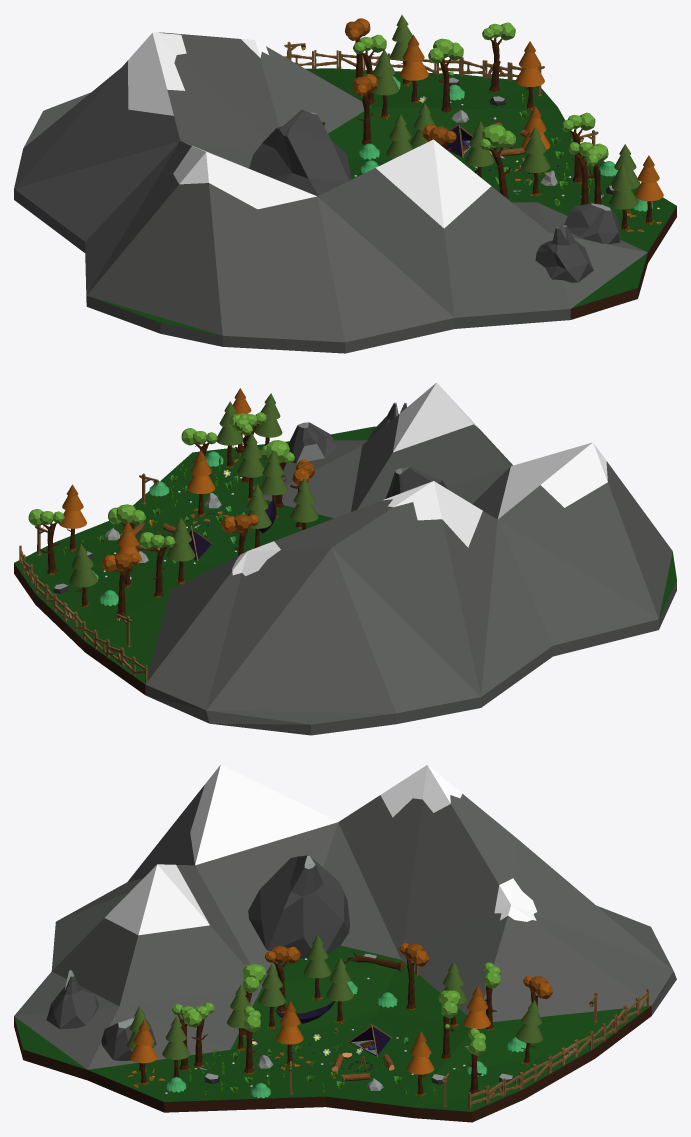
File: camping_final.glb
3 renders of one model, top to bottom at view 1: azimuth 30°, elevation 25°; view 2: azimuth 150°, elevation 25°; view 3: azimuth 270°, elevation 25°, orthographic. The views are drawn at different scales.
Parts seen in each view (by area): view 1: object 3, object 1, AutumnTree.003, PineTree.001, PineTree.003, PineTree.006, object 2, AutumnTree, PineTree.002, PineTree, BigAutumnTree.002, AutumnTree.002 (+1 smaller); view 2: object 3, object 1, AutumnTree.002, BigAutumnTree.002, PineTree.006, PineTree.001, PineTree.002, PineTree, PineTree.004, PineTree.003, AutumnTree, PineTree.005 (+3 smaller); view 3: object 3, object 1, object 6, AutumnTree.003, PineTree.002, PineTree, PineTree.005, AutumnTree.002, PineTree.004, object 2, AutumnTree, PineTree.001 (+2 smaller).
Boxes of the visible parts, x1,y1,x2,y2 form: object 3: (14, 32, 676, 353); object 1: (353, 15, 608, 205); AutumnTree.003: (634, 155, 663, 225); PineTree.001: (521, 127, 550, 195); PineTree.003: (609, 164, 638, 230); PineTree.006: (371, 49, 399, 119); object 2: (399, 35, 428, 80); AutumnTree: (516, 41, 544, 86); PineTree.002: (465, 121, 494, 178); PineTree: (386, 114, 412, 158); BigAutumnTree.002: (345, 18, 370, 77); AutumnTree.002: (521, 106, 550, 175); object 3: (14, 382, 676, 735); object 1: (28, 412, 302, 607); AutumnTree.002: (187, 450, 215, 517); BigAutumnTree.002: (101, 553, 139, 616); PineTree.006: (167, 517, 195, 584); PineTree.001: (237, 433, 264, 500); PineTree.002: (260, 450, 287, 517); PineTree: (290, 478, 318, 530); PineTree.004: (216, 401, 243, 467); PineTree.003: (254, 393, 282, 458); AutumnTree: (59, 484, 86, 528); PineTree.005: (247, 484, 271, 549); object 3: (14, 764, 676, 1122); object 1: (172, 955, 543, 1097); object 6: (274, 1001, 390, 1055); AutumnTree.003: (129, 1020, 157, 1086); PineTree.002: (258, 963, 285, 1029); PineTree: (303, 935, 331, 1001); PineTree.005: (326, 958, 353, 1024); AutumnTree.002: (276, 1001, 303, 1066); PineTree.004: (162, 1016, 189, 1077); object 2: (332, 985, 490, 1078); AutumnTree: (406, 1031, 434, 1074); PineTree.001: (227, 985, 251, 1050).
Size of the model in its own units: 189 by 74.96 by 205.
13 materials, 13 textured.
